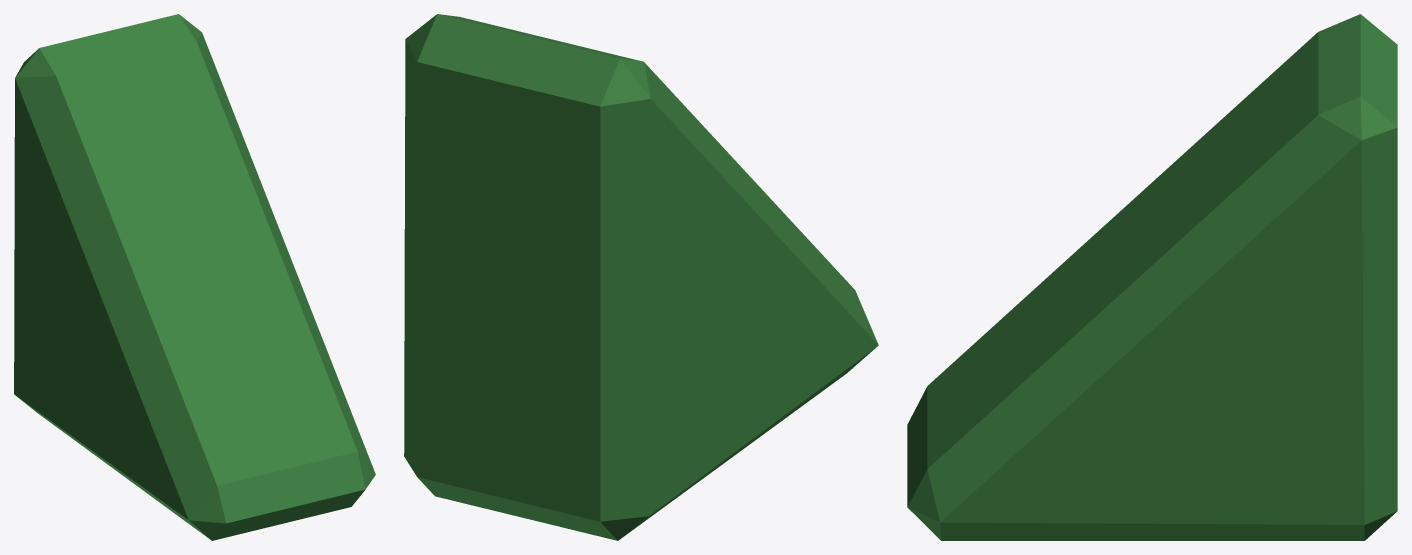
Rendered from m_kub_dung_diagonal_straightSmall.fbx.
The picture shows the model from 3 angles, left to right: view 1: azimuth 30°, elevation 25°; view 2: azimuth 150°, elevation 25°; view 3: azimuth 270°, elevation 25°; orthographic projection. The views are drawn at different scales.
Visible parts, largest first — view 1: m_kub_dung_diagonal_straightSmall; view 2: m_kub_dung_diagonal_straightSmall; view 3: m_kub_dung_diagonal_straightSmall.
Part boxes in pixels (x1,y1,x2,y2): m_kub_dung_diagonal_straightSmall: (14, 14, 375, 540); m_kub_dung_diagonal_straightSmall: (404, 14, 878, 540); m_kub_dung_diagonal_straightSmall: (907, 14, 1397, 540).
Size of the model in its own units: 1.15 by 2.15 by 2.15.
